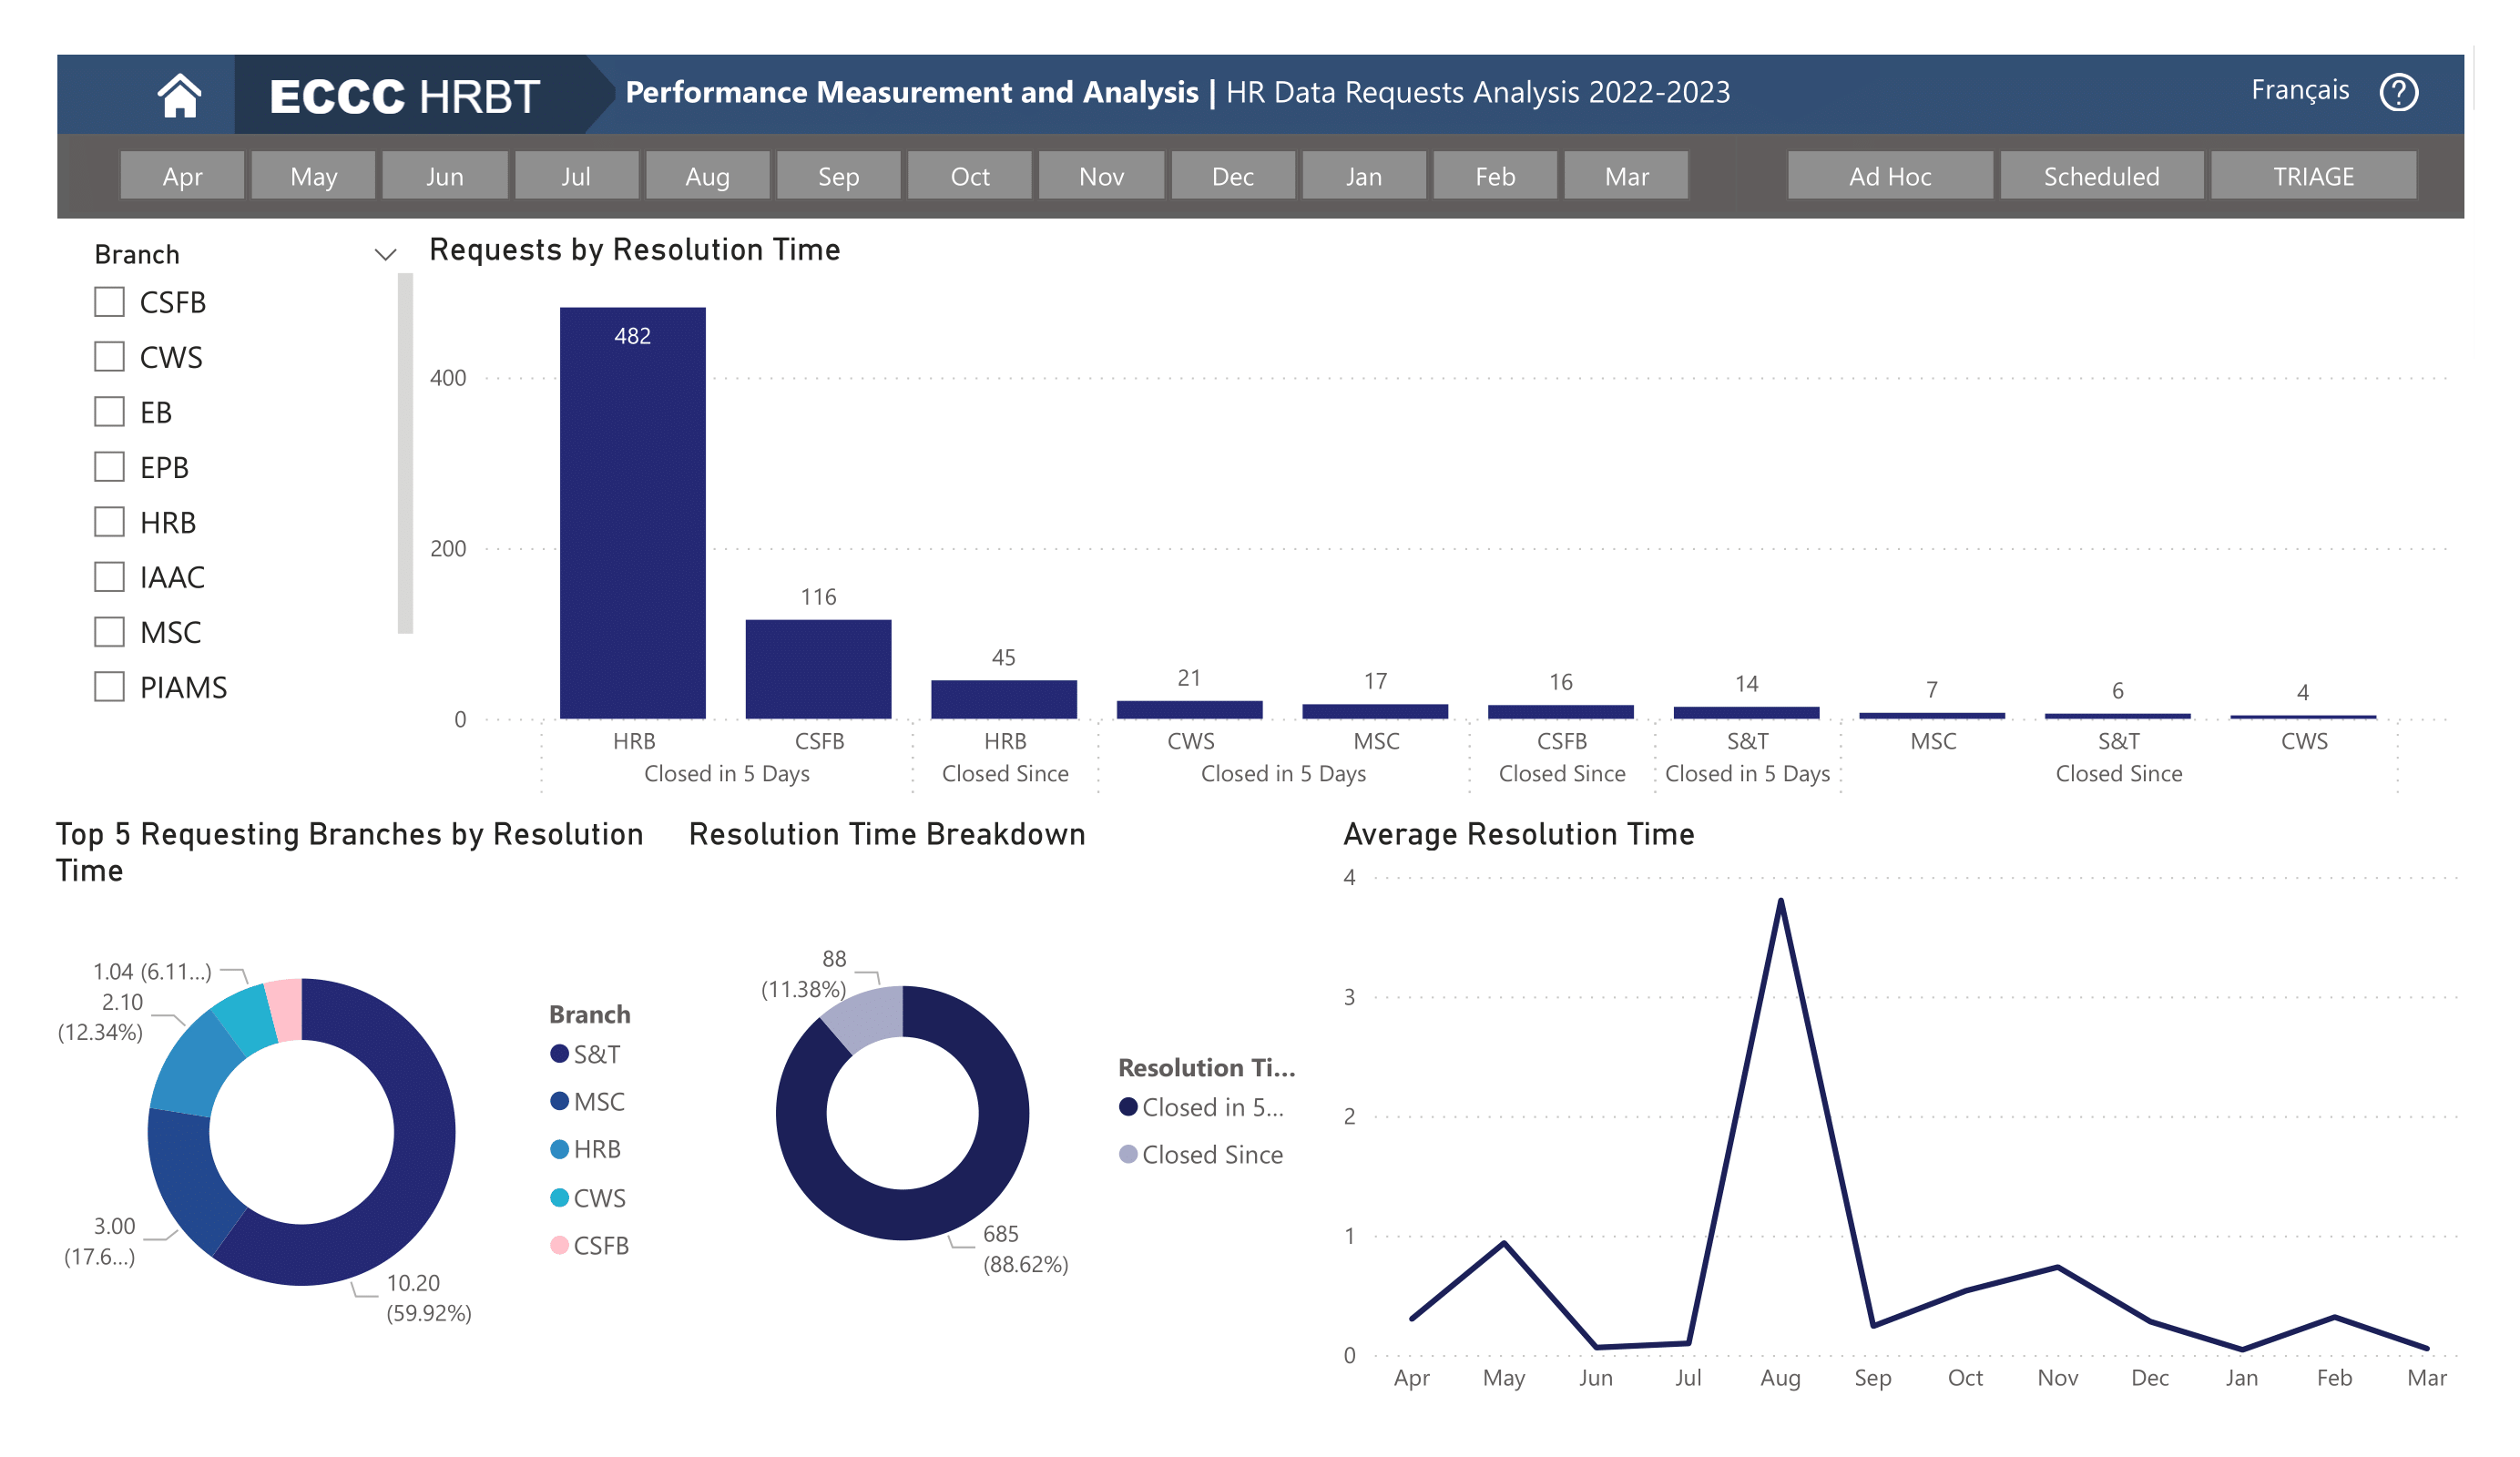

The page's visual inventory and layout, read from the dashboard file:
{"tool":"powerbi","page":{"name":"Requesting Branch Resolution","canvas":[1280,720],"ordinal":8},"visuals":[{"type":"image","box":[0.9,0,1278.3,96],"z":0},{"type":"lineChart","title":"Average Resolution Time","fields":{"Category":["MonthOrder.MonthOrderDesc"],"Y":["Avg(HR_DATA_REQUEST_REPORT.RESOLUTION_TIME)"]},"box":[678.2,405.2,601.5,314.8],"z":1000},{"type":"columnChart","title":"Requests by Resolution Time","fields":{"Category":["HR_DATA_REQUEST_REPORT.CLOSEDIN5DAYS","HR_DATA_REQUEST_REPORT.AFF_BRANCH_TEXT"],"Y":["CountNonNull(HR_DATA_REQUEST_REPORT.INCIDENT_REF)"]},"box":[197.8,96.7,1076.7,308.9],"z":2000},{"type":"image","box":[54.6,8.8,32.6,32.6],"z":3000},{"type":"actionButton","box":[1159.4,3.1,66.2,38.1],"z":4000},{"type":"image","box":[1225.7,8.8,30,30],"z":5000},{"type":"slicer","fields":{"Values":["MonthOrder.MonthOrderDesc"]},"box":[12.6,47.6,878.4,39.8],"z":6000},{"type":"slicer","fields":{"Values":["HR_DATA_REQUEST_REPORT.INC_CAT_N"]},"box":[891,47.6,382.8,39.8],"z":7000},{"type":"donutChart","title":"Resolution Time Breakdown","fields":{"Category":["HR_DATA_REQUEST_REPORT.CLOSEDIN5DAYS"],"Y":["CountNonNull(HR_DATA_REQUEST_REPORT.INCIDENT_REF)"]},"box":[333.3,405.6,333.3,295.6],"z":8000},{"type":"slicer","fields":{"Values":["HR_DATA_REQUEST_REPORT.AFF_BRANCH_TEXT"]},"box":[12.6,96.2,185.6,263.3],"z":9000},{"type":"donutChart","title":"Top 5 Requesting Branches by Resolution Time","fields":{"Y":["Avg(HR_DATA_REQUEST_REPORT.RESOLUTION_TIME)"],"Category":["HR_DATA_REQUEST_REPORT.AFF_BRANCH_TEXT"]},"box":[0,405.2,333.3,296.4],"z":10000},{"type":"textbox","box":[300,8,666,33],"z":11000}]}

Visuals, with their boxes on the page's 1280x720 design canvas (x1, y1, x2, y2). These are canvas units, not pixel positions in the 2520x1457 screenshot, which may show the page scaled, cropped or inside an application window:
image: rect(1, 0, 1279, 96)
"Average Resolution Time" lineChart: rect(678, 405, 1280, 720)
"Requests by Resolution Time" columnChart: rect(198, 97, 1274, 406)
image: rect(55, 9, 87, 41)
actionButton: rect(1159, 3, 1226, 41)
image: rect(1226, 9, 1256, 39)
slicer - MonthOrder.MonthOrderDesc: rect(13, 48, 891, 87)
slicer - HR_DATA_REQUEST_REPORT.INC_CAT_N: rect(891, 48, 1274, 87)
"Resolution Time Breakdown" donutChart: rect(333, 406, 667, 701)
slicer - HR_DATA_REQUEST_REPORT.AFF_BRANCH_TEXT: rect(13, 96, 198, 360)
"Top 5 Requesting Branches by Resolution Time" donutChart: rect(0, 405, 333, 702)
textbox: rect(300, 8, 966, 41)
